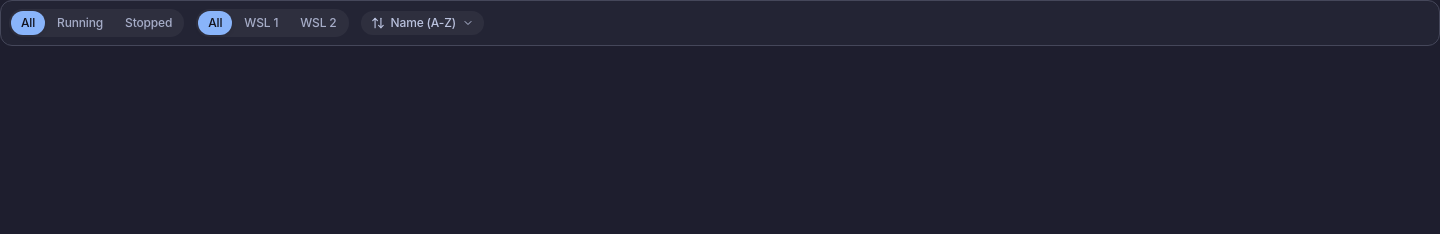
it: DistroFilterBar › opens sort dropdown and shows options
Step 1. Click the button with test id "sort-dropdown" → (422, 23), box [361,11,484,35]
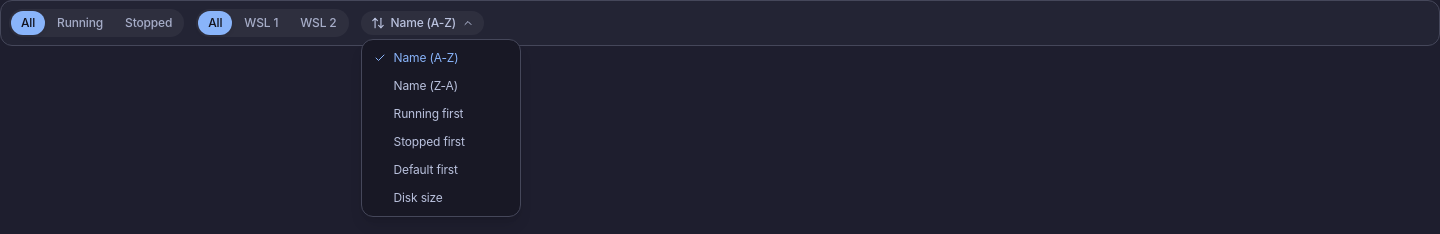
Result: the button with test id "sort-option-name-asc" is shown at [362,44,520,72]
Result: the button with test id "sort-option-vhdx-size" is shown at [362,184,520,212]
